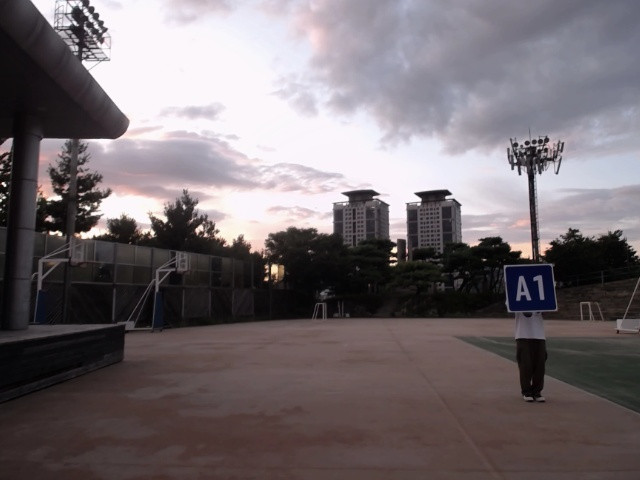delivery_a1: (504, 264, 558, 312)
